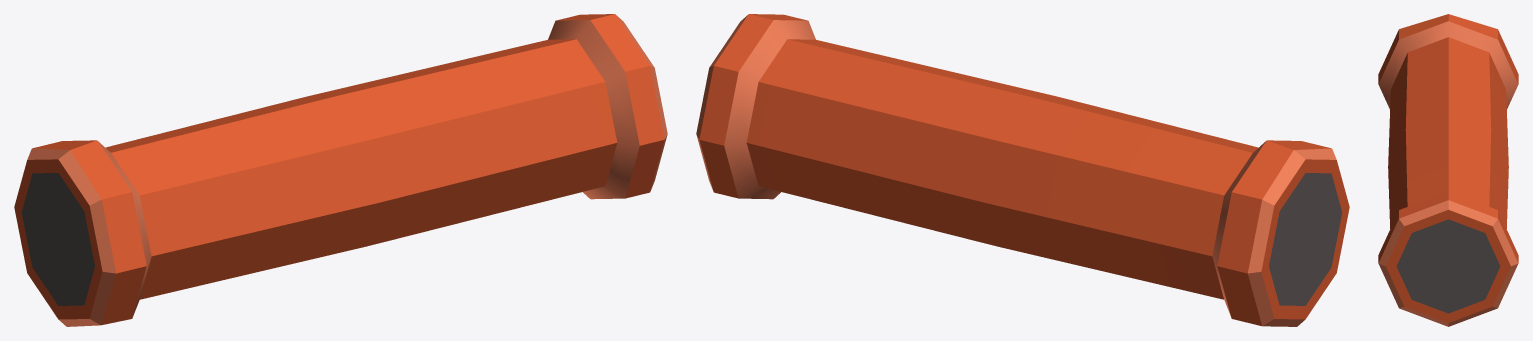
Rendered from SR_Pipe_01.fbx.
3 views of the same model, side by side, from view 1: azimuth 30°, elevation 25°; view 2: azimuth 150°, elevation 25°; view 3: azimuth 270°, elevation 25° (orthographic). The views are drawn at different scales.
Parts seen in each view (by area): view 1: SR_Pipe_01; view 2: SR_Pipe_01; view 3: SR_Pipe_01.
Boxes of the visible parts, x1,y1,x2,y2 form: SR_Pipe_01: (14, 14, 667, 326); SR_Pipe_01: (696, 14, 1349, 326); SR_Pipe_01: (1378, 14, 1518, 326).
Size of the model in its own units: 399 by 121 by 121.
